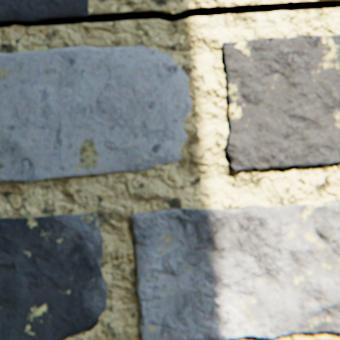brick: (131, 200, 339, 339), (0, 45, 190, 180), (220, 34, 339, 170), (0, 212, 106, 339), (0, 0, 88, 20)
crack: (0, 0, 339, 27)
